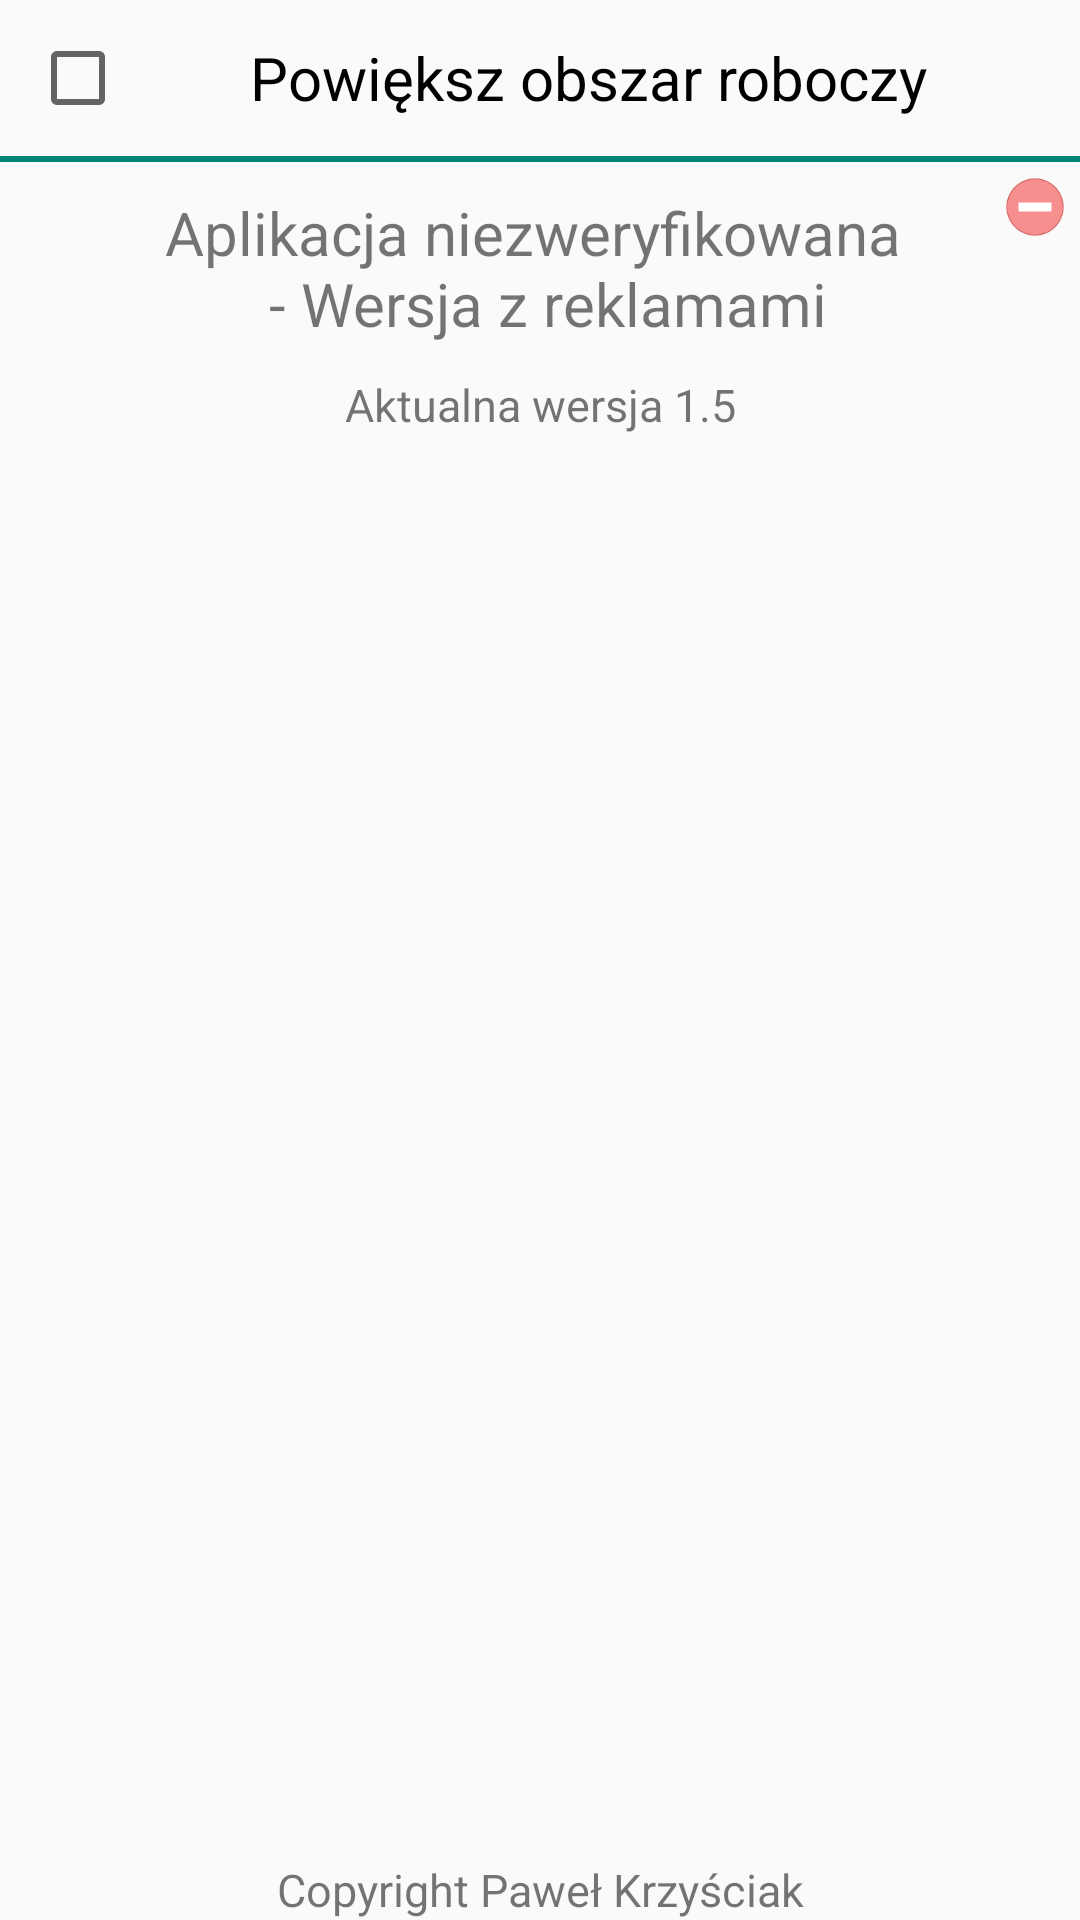

Icons on this 1080px×1920px Android screen, each with the point to tap as (x=x, y=y):
notver: (x=1035, y=207)
